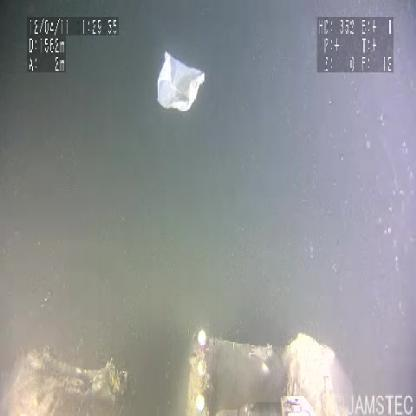Rác: (156, 51, 206, 114)
